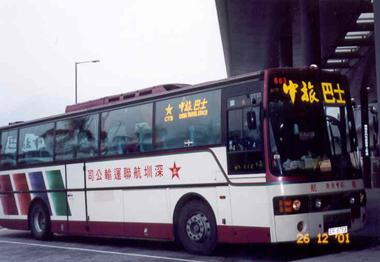bus: (29, 85, 360, 230)
